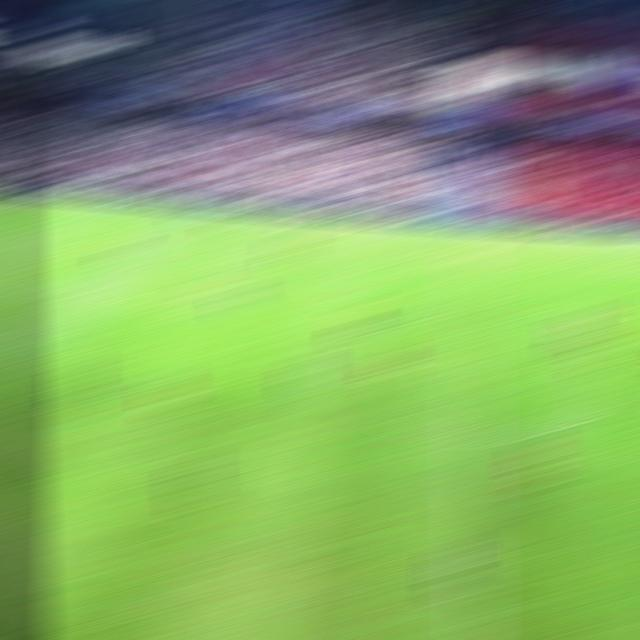bigarea_top_inner: (106, 243, 139, 251)
corner: (18, 194, 56, 200)
halfcircle_bottom: (451, 421, 496, 444)
halfcircle_top: (449, 309, 494, 328)
midline_top_intersection: (450, 228, 493, 237)
top_arc_area_intersection: (50, 288, 85, 298)
